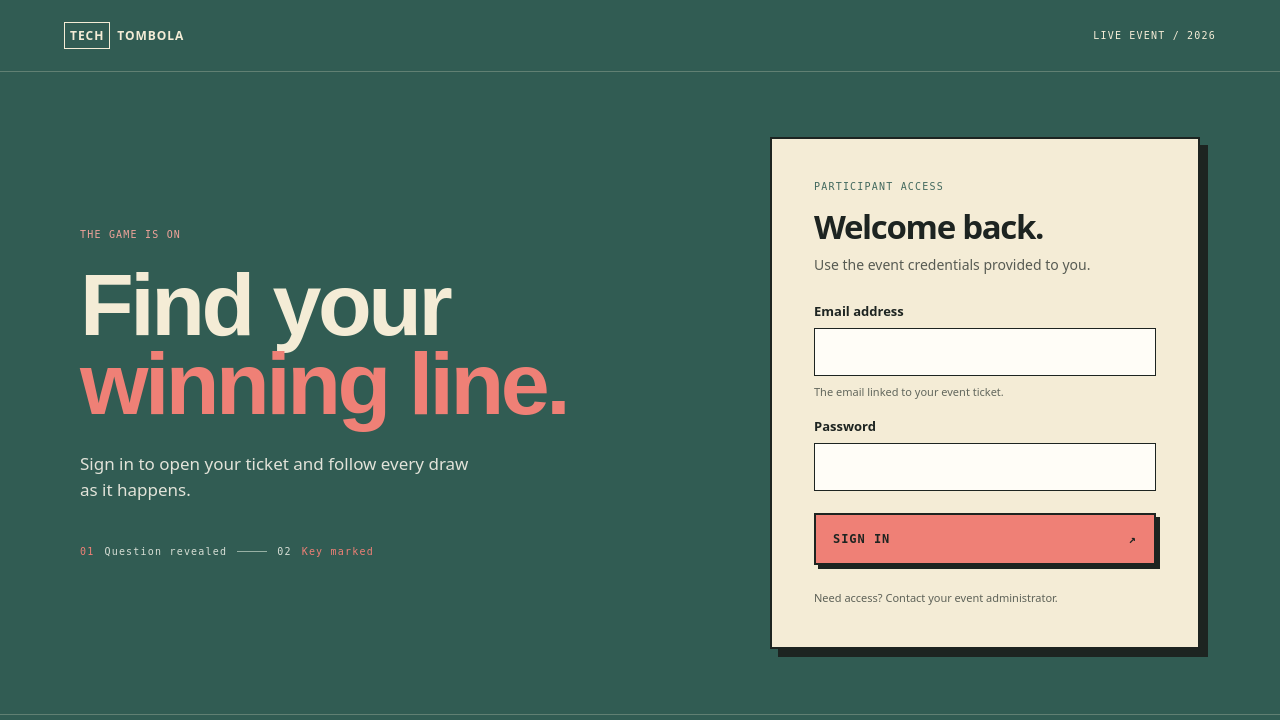
Test case: LoginPage › validates empty and malformed input accessibly
Click the button "SIGN IN ↗".
click(862, 539)  # box [814,513,1156,565]
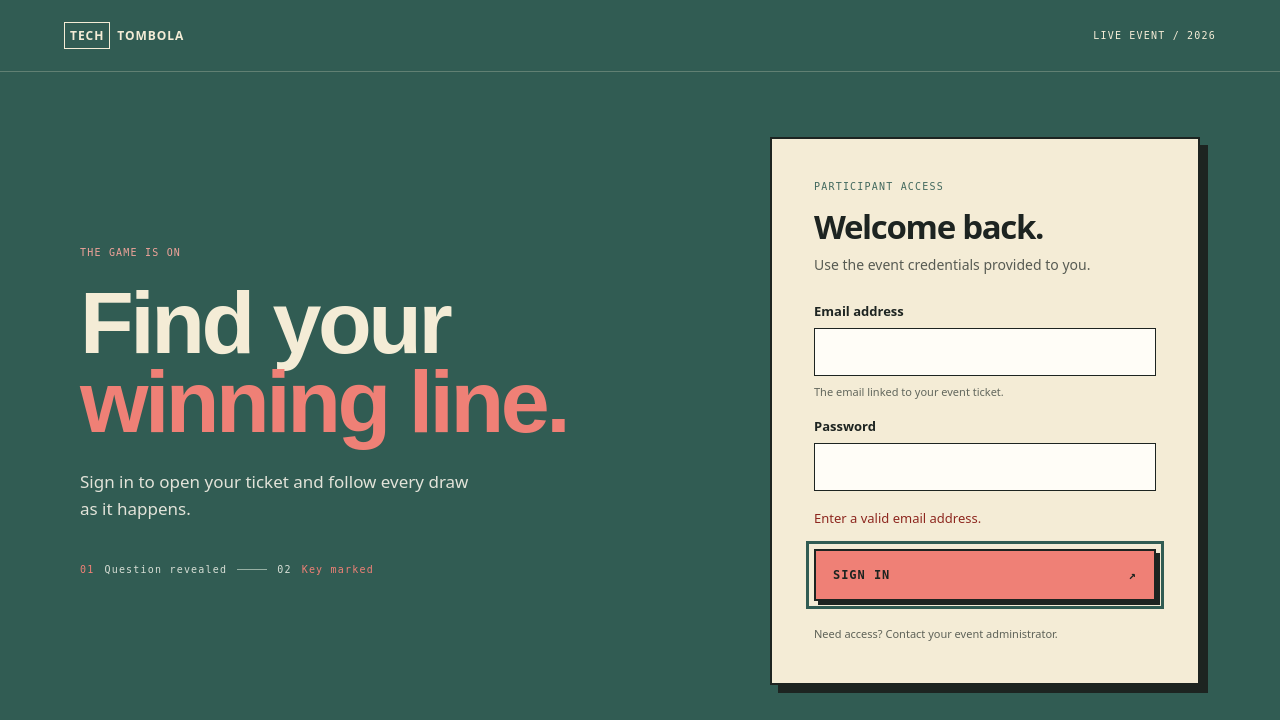
Expected: the message shows "valid email", [814,509,981,527]
